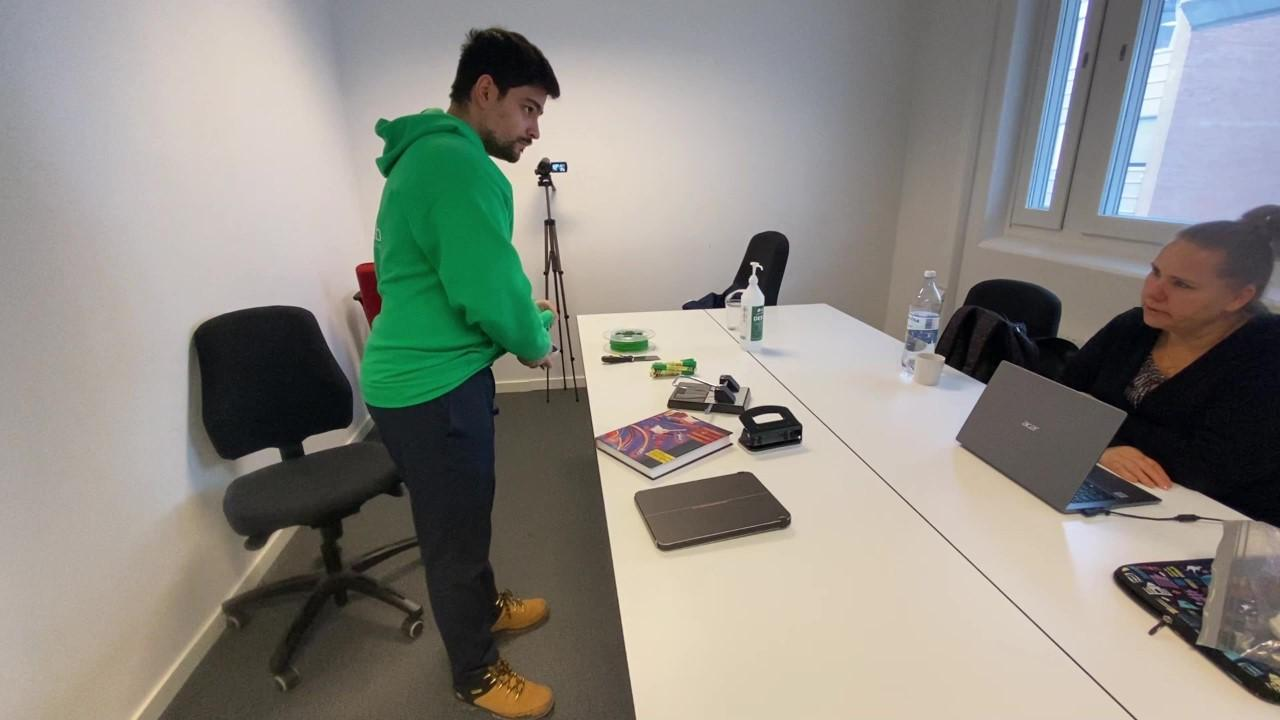shoplifting: (365, 32, 560, 719)
